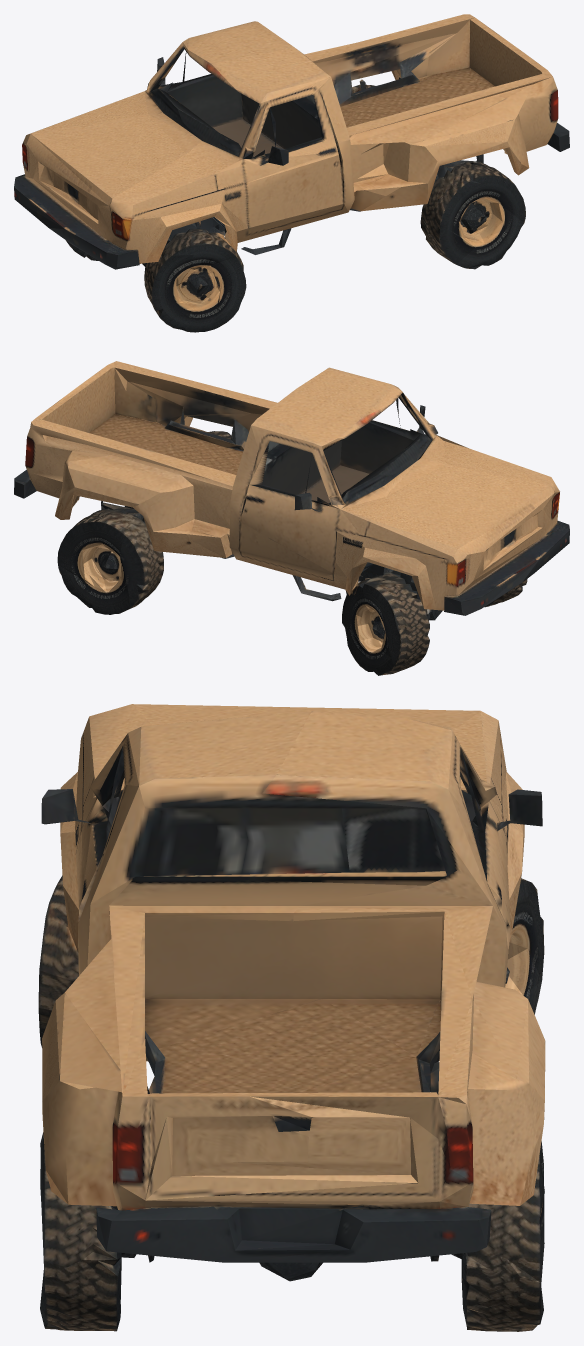
3 renders of one model, top to bottom at view 1: azimuth 30°, elevation 25°; view 2: azimuth 150°, elevation 25°; view 3: azimuth 270°, elevation 25°, orthographic. The views are drawn at different scales.
Size of the model in its own units: 1.9 by 0.814 by 0.8898.
Materials: 1 (1 with a texture image).
